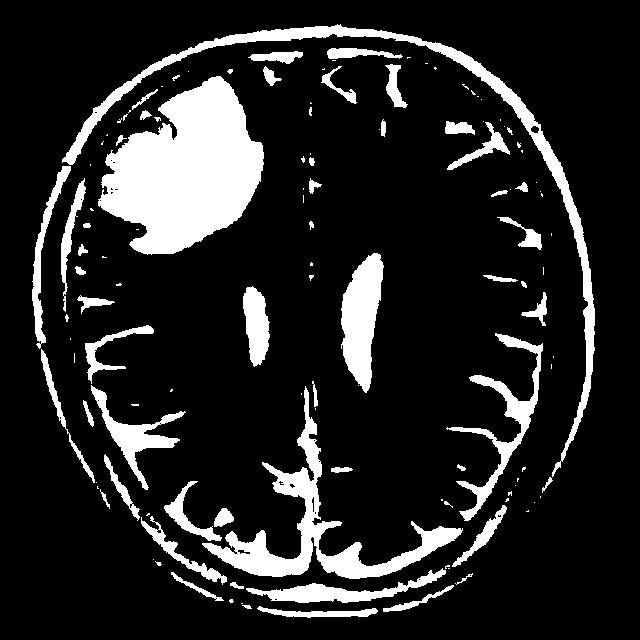Brain-Tumor: (93, 73, 274, 270)
